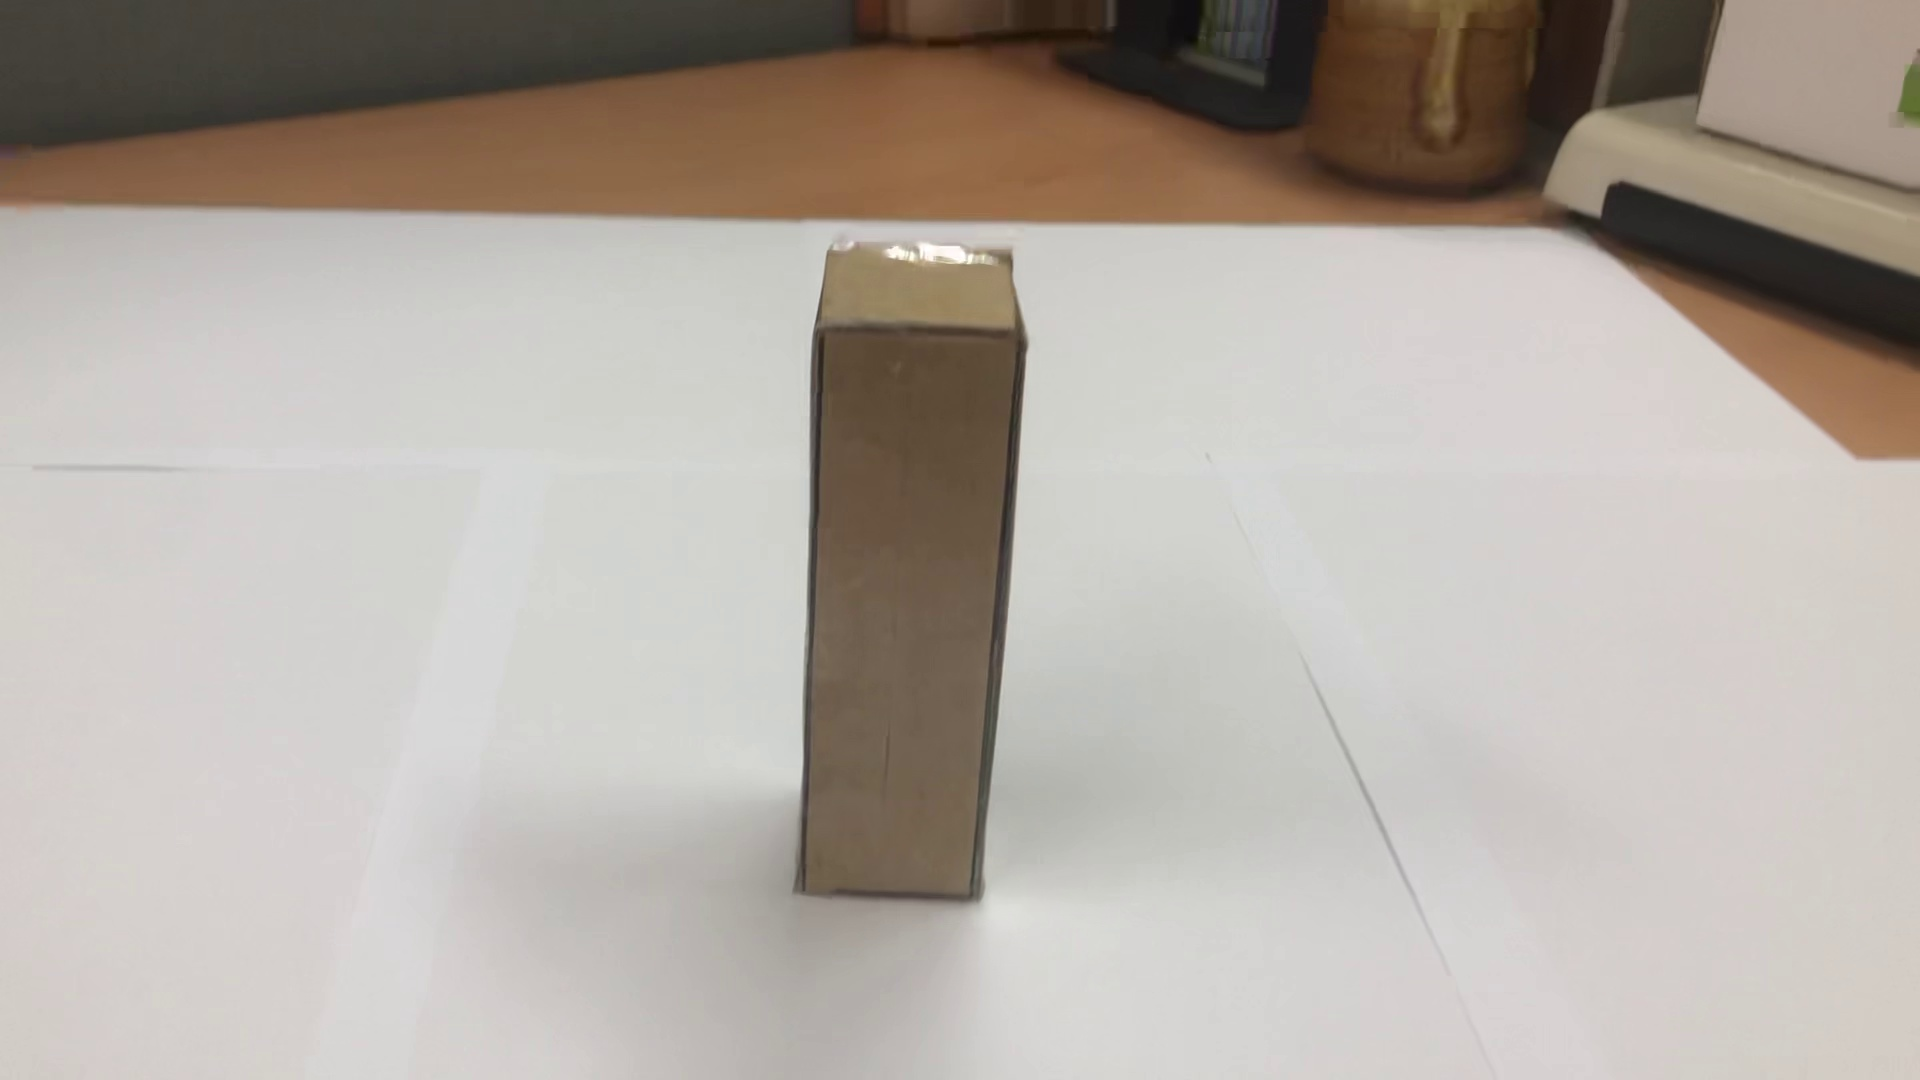box: (735, 210, 1080, 935)
